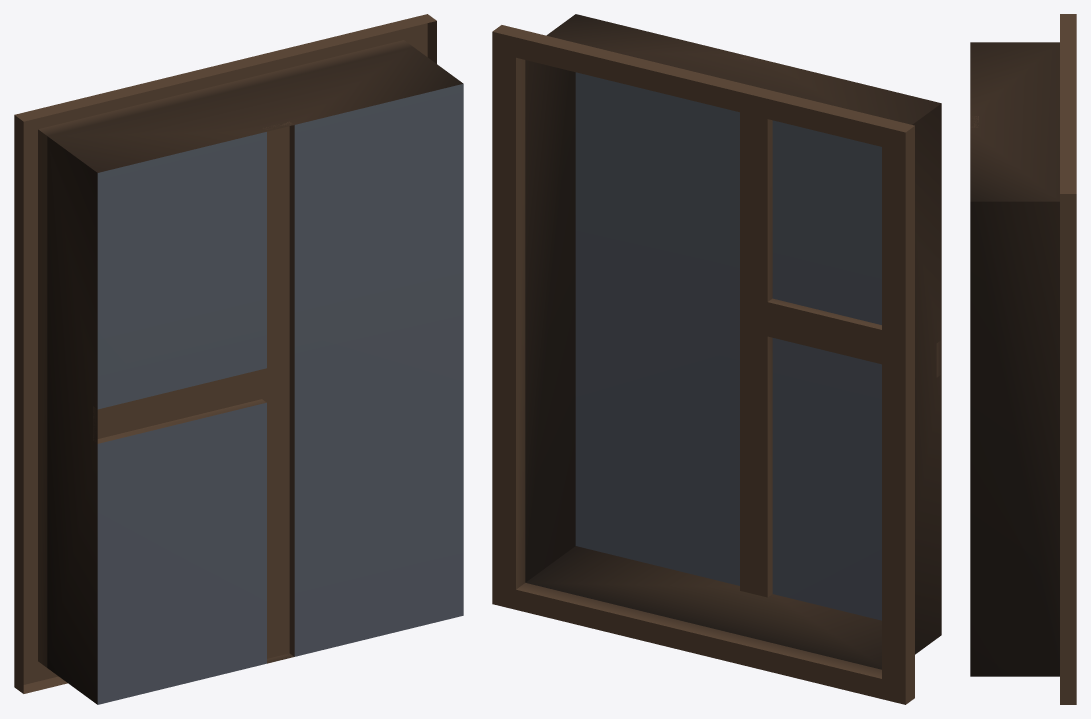
Rendered from Old_window_brown_2.fbx.
3 views of the same model, side by side, from view 1: azimuth 30°, elevation 25°; view 2: azimuth 150°, elevation 25°; view 3: azimuth 270°, elevation 25° (orthographic). The views are drawn at different scales.
Parts seen in each view (by area): view 1: Old_window_brown_2; view 2: Old_window_brown_2; view 3: Old_window_brown_2.
Part boxes in pixels (x1=…): Old_window_brown_2: x1=14, y1=14, x2=463, y2=704; Old_window_brown_2: x1=492, y1=14, x2=941, y2=704; Old_window_brown_2: x1=970, y1=14, x2=1076, y2=704.
Bounding box in the file's own units: 2.39 × 0.5974 × 3.16.
